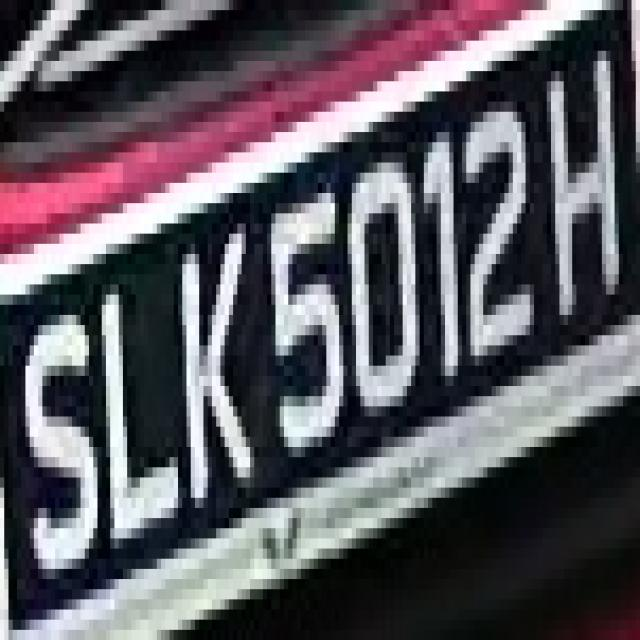0: (339, 132, 420, 406)
1: (415, 81, 462, 376)
2: (445, 82, 534, 346)
5: (263, 193, 352, 457)
H: (534, 20, 623, 376)
K: (161, 203, 267, 549)
L: (102, 214, 182, 548)
S: (17, 294, 97, 569)
